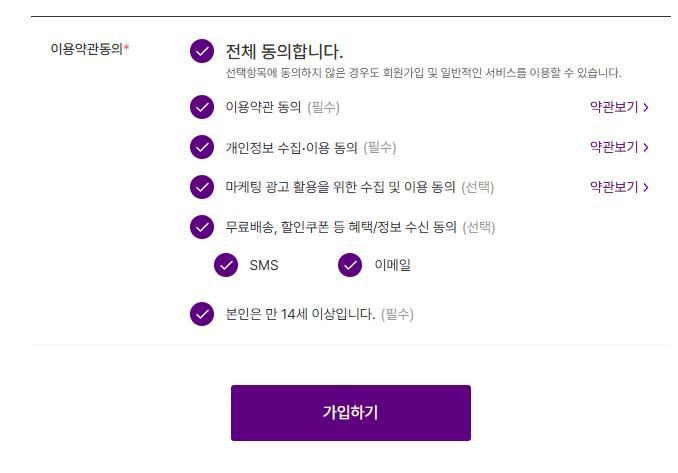button: (231, 384, 471, 442), (584, 93, 656, 121), (583, 134, 654, 162), (582, 174, 654, 201)
checkbox: (183, 31, 627, 86), (181, 169, 523, 209), (179, 296, 444, 337), (182, 212, 504, 244), (183, 132, 416, 166), (184, 89, 378, 128), (328, 248, 429, 286), (206, 248, 288, 286)
